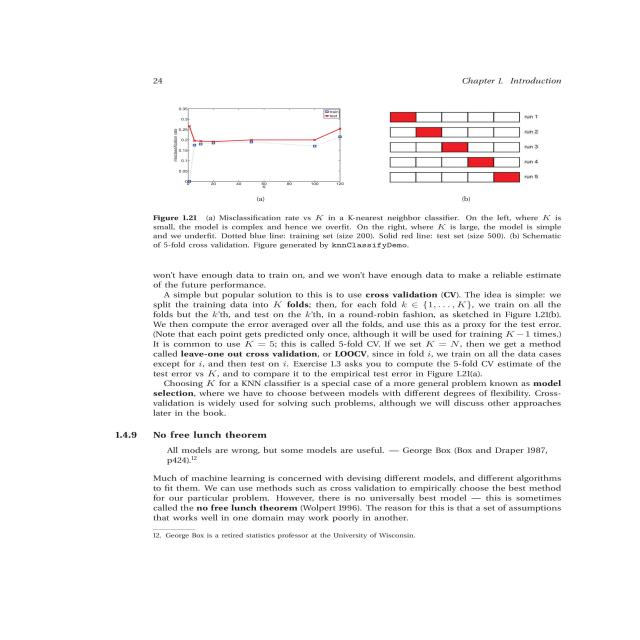diagram: (152, 76, 578, 207)
